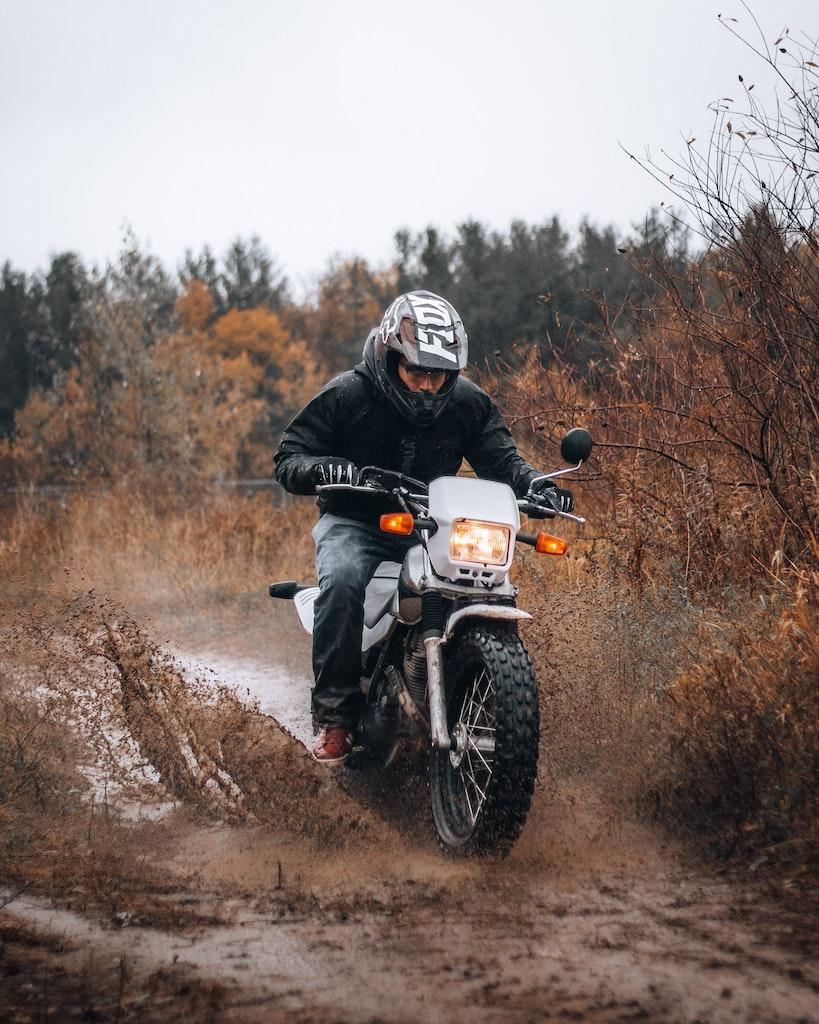helmet: (373, 289, 470, 428)
